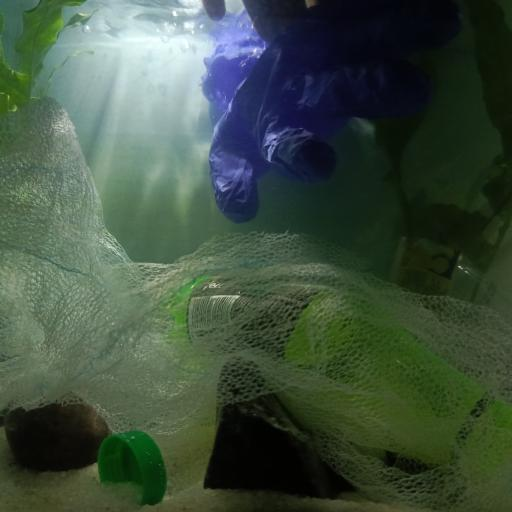bottle_cap: (96, 427, 164, 505)
glove: (200, 32, 437, 226)
net: (1, 96, 512, 512)
plastic_bottle: (155, 277, 506, 476), (333, 222, 500, 305)
